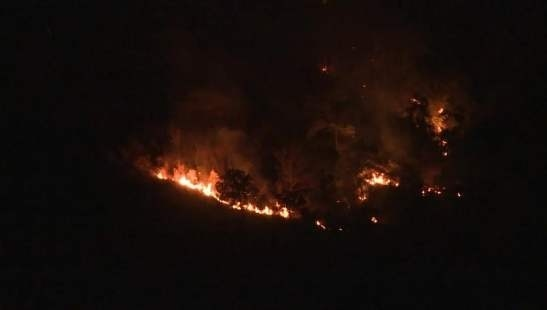fire: (156, 159, 297, 218), (355, 163, 400, 193), (427, 100, 450, 152)
